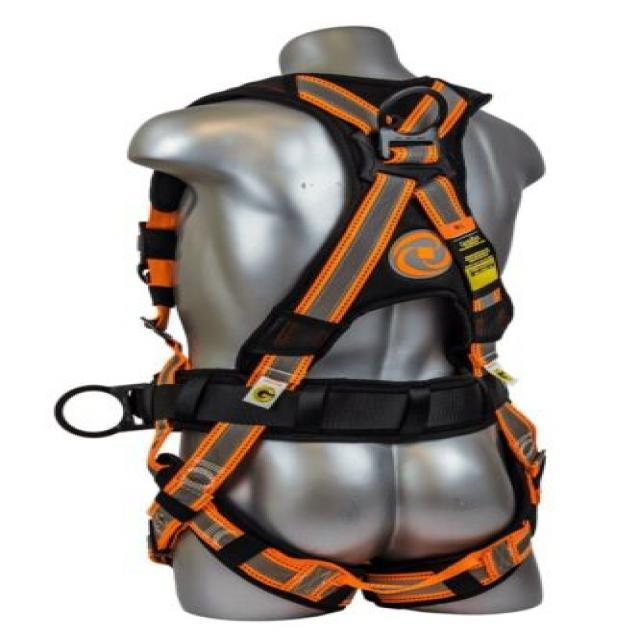belt: (59, 70, 564, 614)
